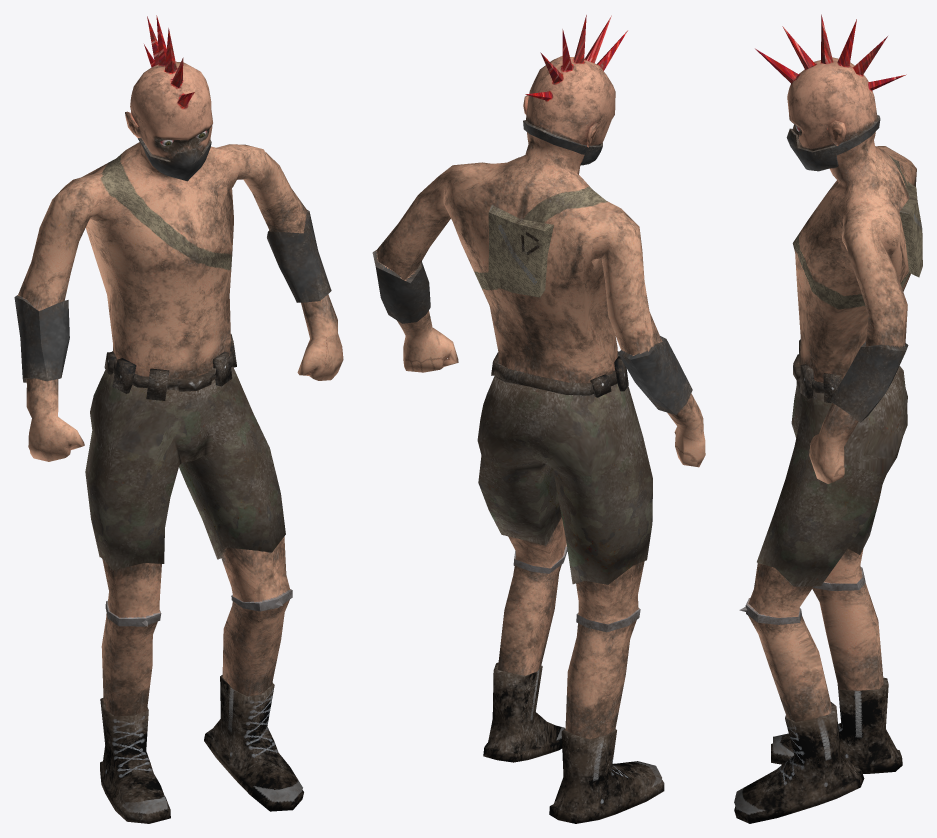
File: Anim_cogerobjeto_npc2.0018.obj
3 renders of one model, left to right at view 1: azimuth 30°, elevation 25°; view 2: azimuth 150°, elevation 25°; view 3: azimuth 270°, elevation 25°, orthographic.
Parts seen in each view (by area): view 1: polySurface1; view 2: polySurface1; view 3: polySurface1.
Boxes of the visible parts, x1=… form: polySurface1: x1=14, y1=15, x2=343, y2=823; polySurface1: x1=372, y1=15, x2=705, y2=823; polySurface1: x1=734, y1=14, x2=922, y2=823.
Bounding box in the file's own units: 4.18 × 10.08 × 2.26.
